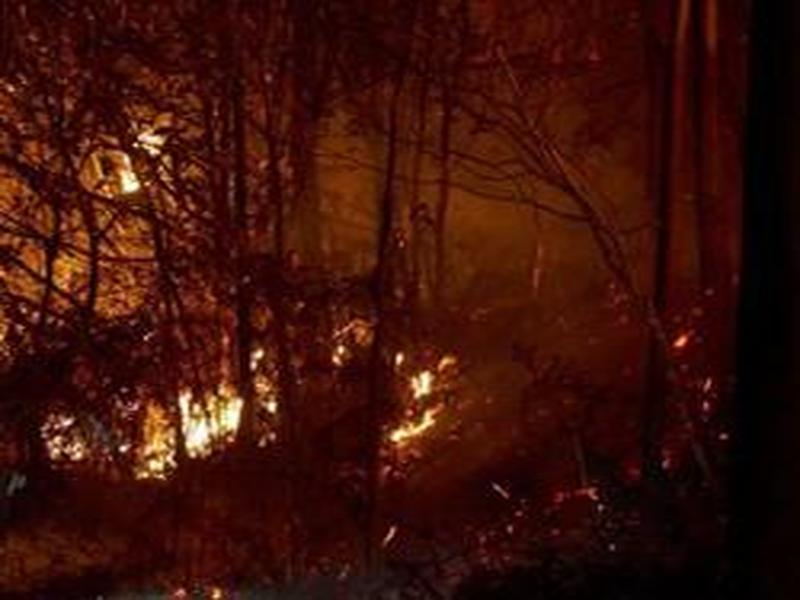FIRE: (17, 264, 465, 494)
